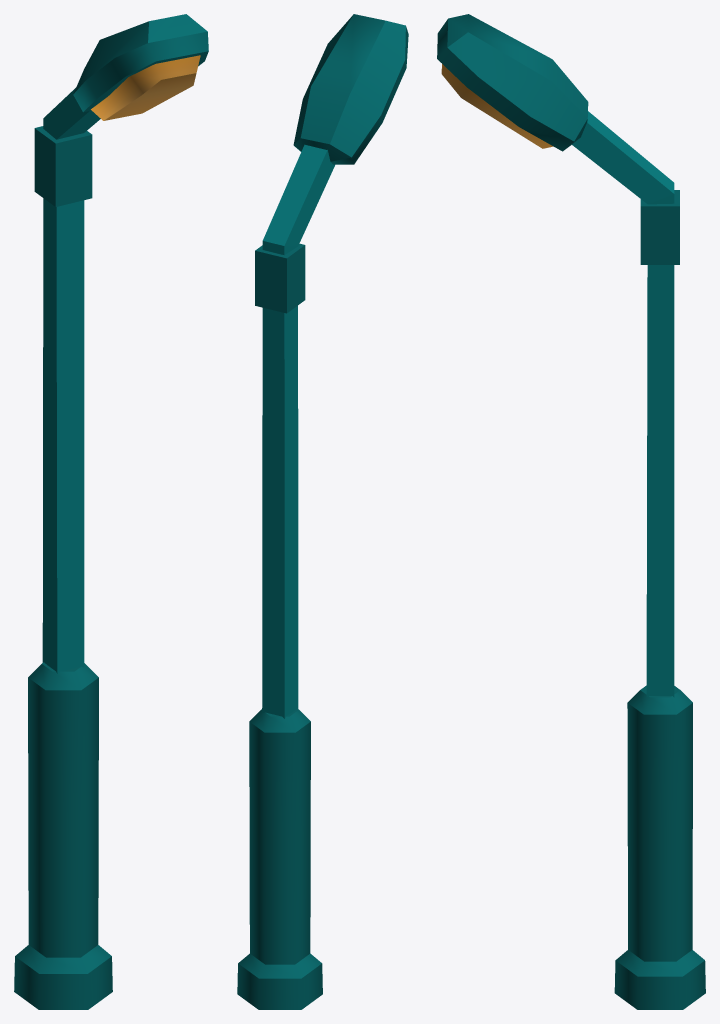
Rendered from Lamp_Court_1_C.fbx.
3 renders of one model, left to right at view 1: azimuth 30°, elevation 25°; view 2: azimuth 150°, elevation 25°; view 3: azimuth 270°, elevation 25°, orthographic. The views are drawn at different scales.
Visible parts, largest first — view 1: Lamp_Court_1_C; view 2: Lamp_Court_1_C; view 3: Lamp_Court_1_C.
Boxes of the visible parts, x1,y1,x2,y2 form: Lamp_Court_1_C: (14,14,208,1009); Lamp_Court_1_C: (237,14,408,1009); Lamp_Court_1_C: (437,14,705,1009).
Bounding box in the file's own units: 58.67 × 648 × 163.
